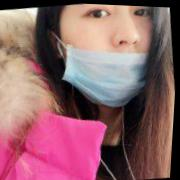WRONG: (54, 3, 167, 114)
